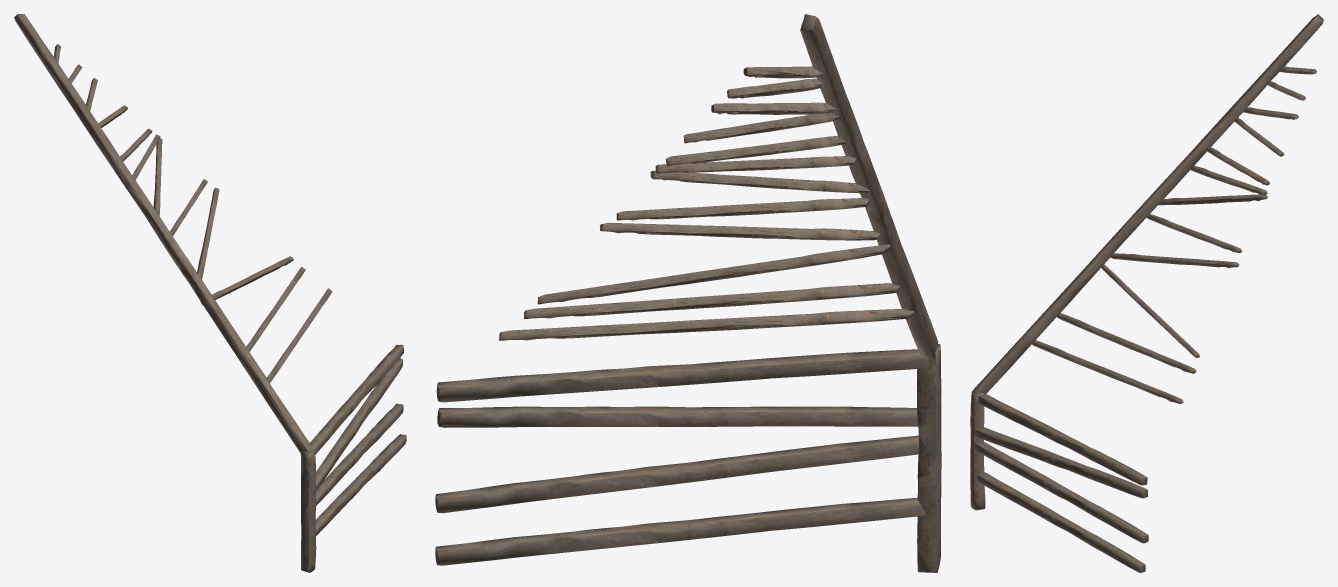
The model's file is Tent_P_WoodenStand01.FBX.
The picture shows the model from 3 angles, left to right: view 1: azimuth 30°, elevation 25°; view 2: azimuth 150°, elevation 25°; view 3: azimuth 270°, elevation 25°; orthographic projection. The views are drawn at different scales.
Parts seen in each view (by area): view 1: Tent_P_WoodenStand01; view 2: Tent_P_WoodenStand01; view 3: Tent_P_WoodenStand01.
Boxes of the visible parts, x1,y1,x2,y2 form: Tent_P_WoodenStand01: (14,14,406,572); Tent_P_WoodenStand01: (435,14,941,572); Tent_P_WoodenStand01: (970,14,1323,572).
Bounding box in the file's own units: 1184 × 1728 × 1259.
